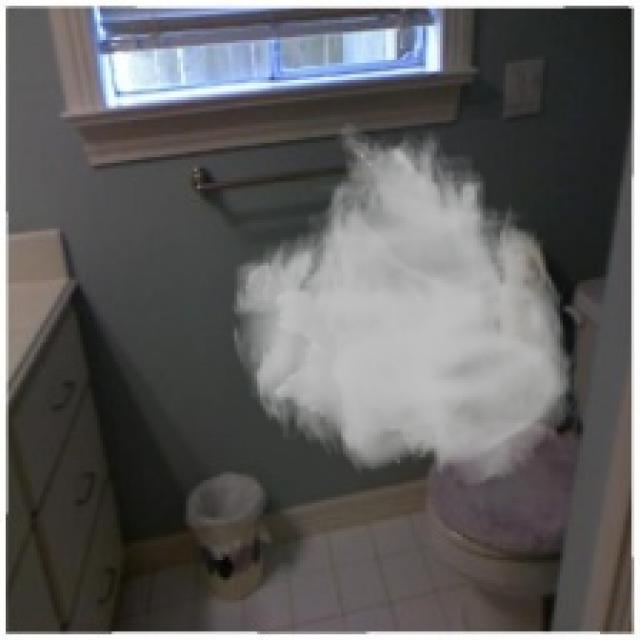smoke: (229, 120, 580, 489)
